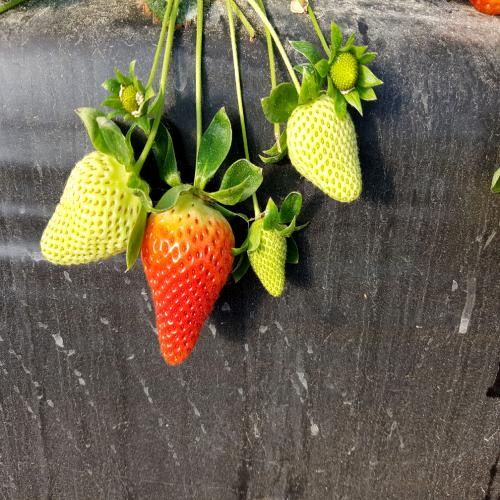ripe: (146, 192, 224, 359)
unripe: (276, 75, 376, 217), (39, 126, 142, 263), (249, 211, 293, 301)
